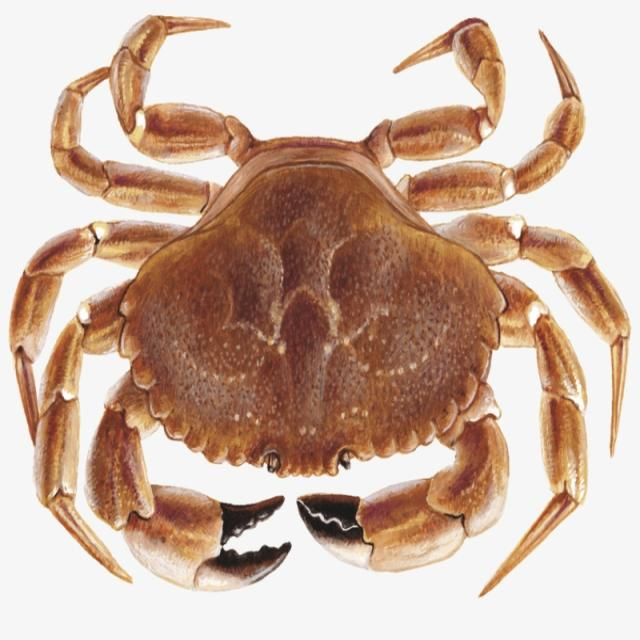Native Jonah crab: (11, 16, 630, 594)
